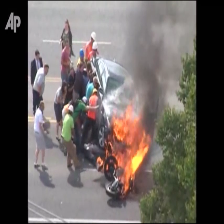fire_h: (104, 100, 151, 195)
fire_l: (106, 158, 117, 170), (97, 156, 104, 170)
